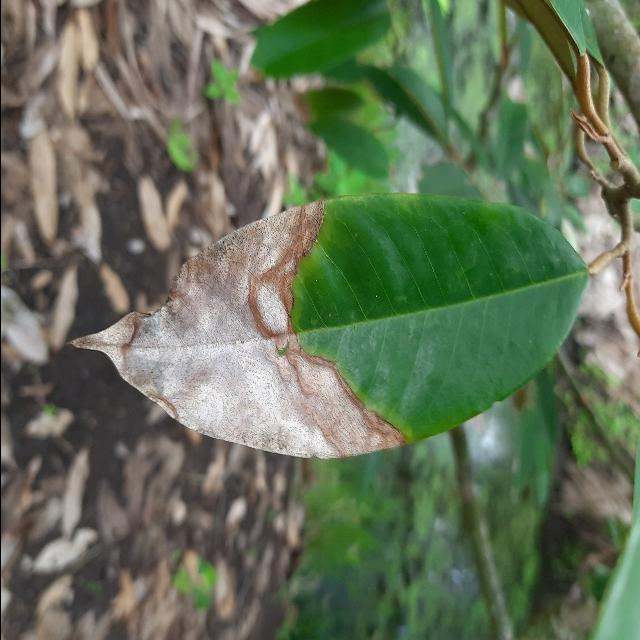Leaf Blight: (57, 185, 599, 468)
